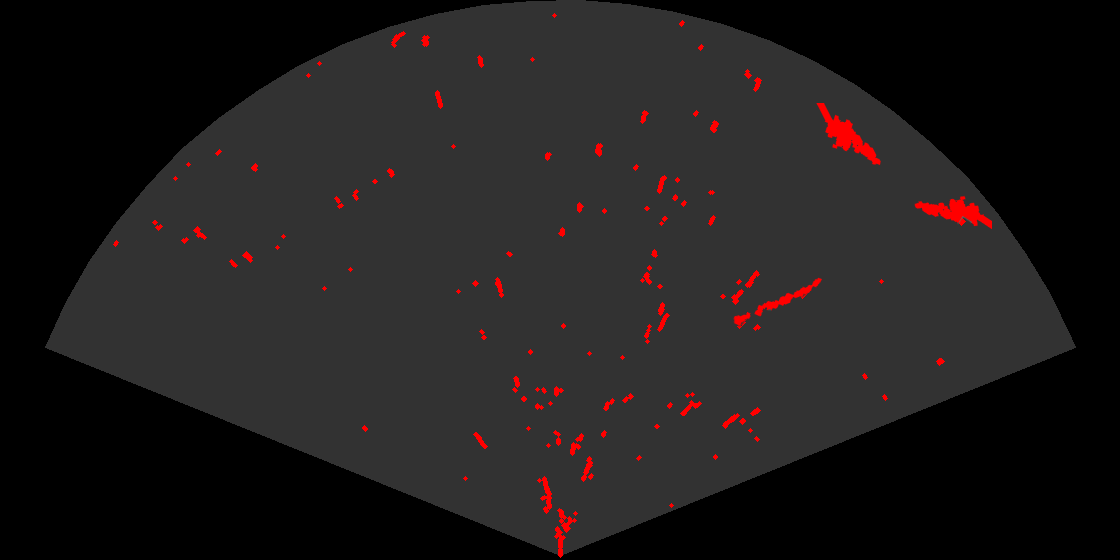chain: (732, 276, 824, 327)
frogman: (815, 103, 882, 167), (913, 195, 992, 231)
